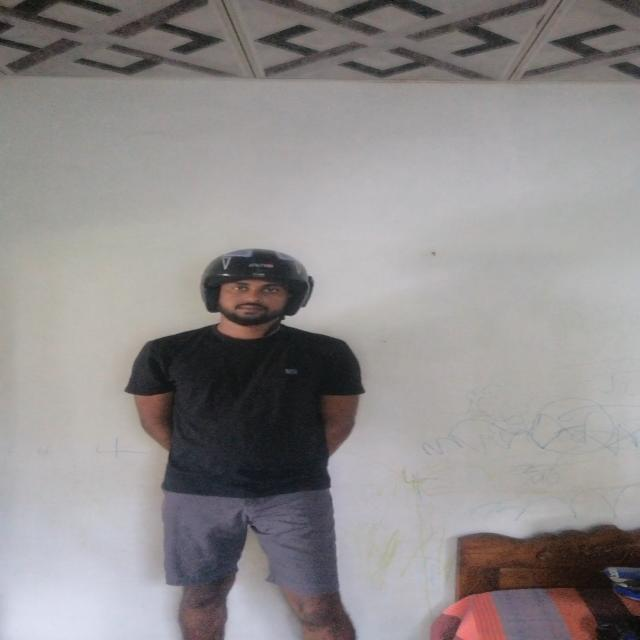Helmet_Wearer: (182, 245, 338, 357)
Person: (132, 250, 370, 640)
